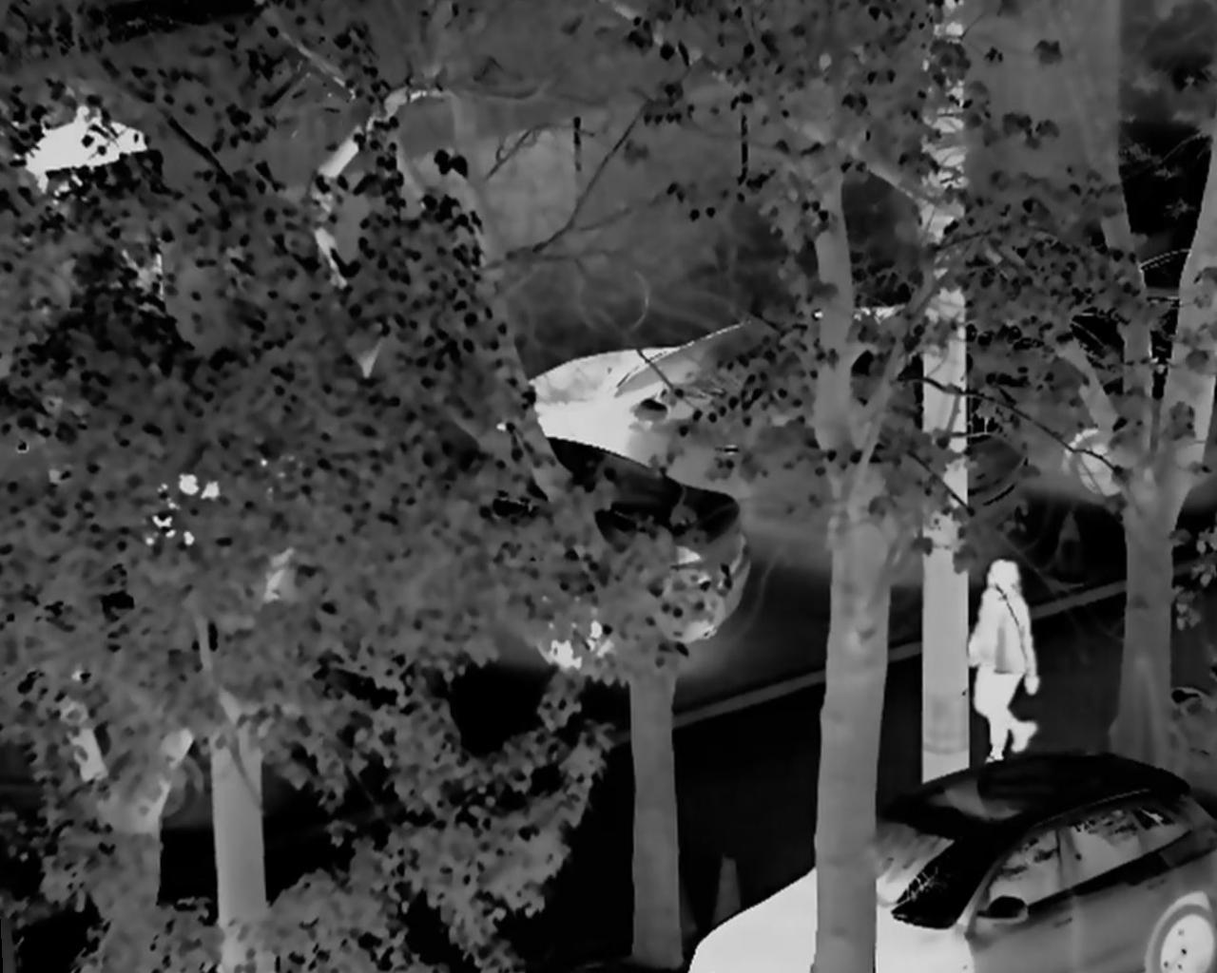person: (968, 550, 1046, 768)
